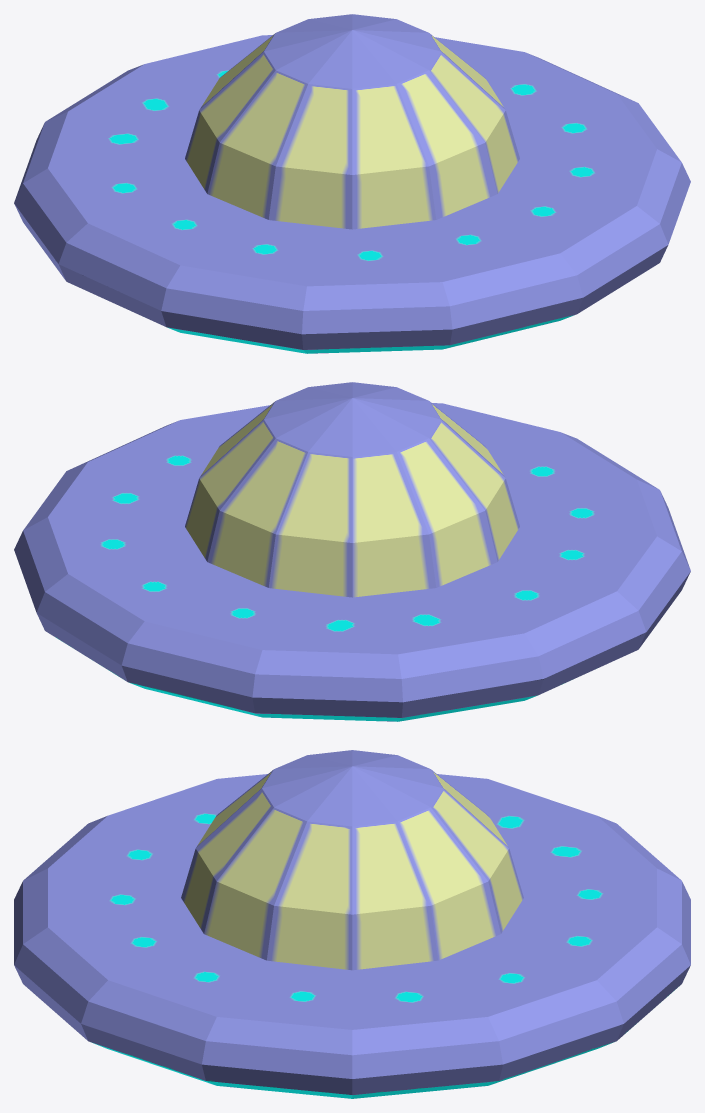
3 views of the same model, one above another, from view 1: azimuth 30°, elevation 25°; view 2: azimuth 150°, elevation 25°; view 3: azimuth 270°, elevation 25° (orthographic). The views are drawn at different scales.
Parts seen in each view (by area): view 1: ovini_0; view 2: ovini_0; view 3: ovini_0.
Boxes of the visible parts, x1,y1,x2,y2 form: ovini_0: (14, 14, 690, 353); ovini_0: (14, 382, 690, 721); ovini_0: (14, 750, 690, 1098).
Bounding box in the file's own units: 22.15 × 7.74 × 21.6.
1 material, 1 textured.
